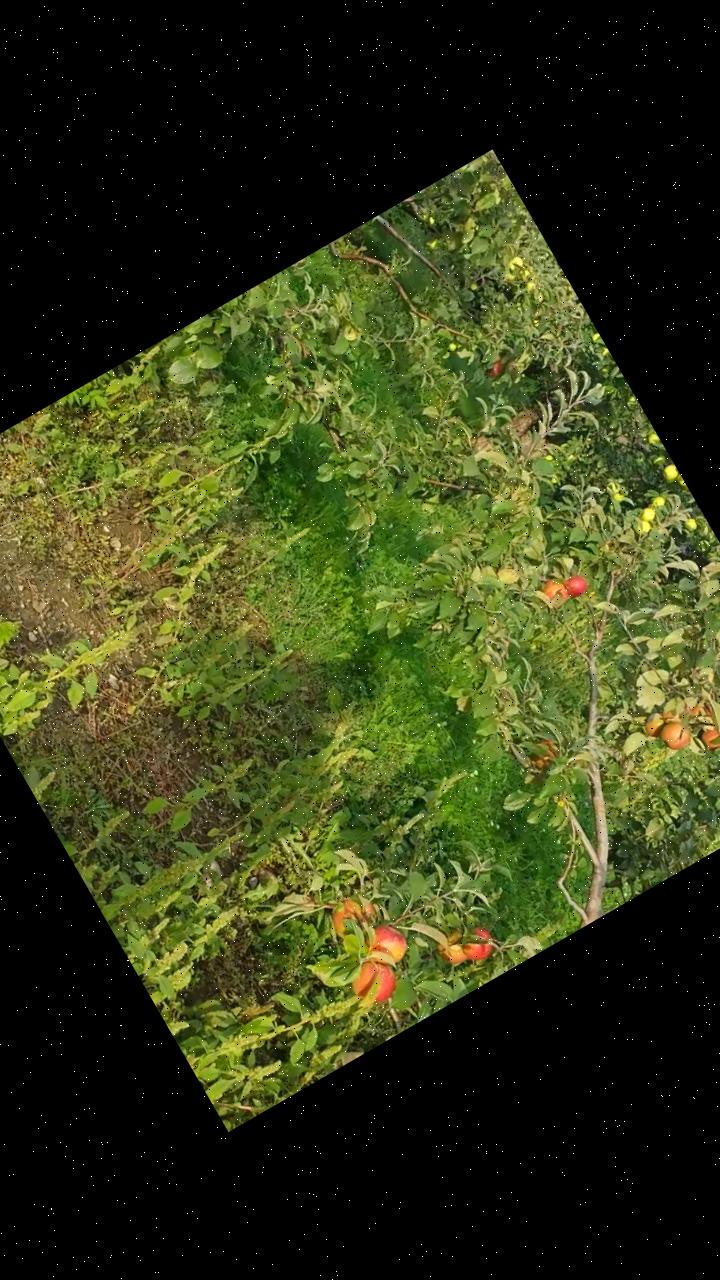Apple: (342, 949, 406, 1014), (356, 916, 415, 974), (326, 890, 382, 940), (434, 925, 476, 969), (456, 920, 498, 962), (524, 733, 564, 774), (656, 712, 695, 752), (680, 692, 714, 724), (539, 572, 570, 604), (638, 708, 669, 738), (695, 718, 719, 756), (561, 570, 591, 600), (484, 354, 509, 378), (660, 704, 684, 728)
